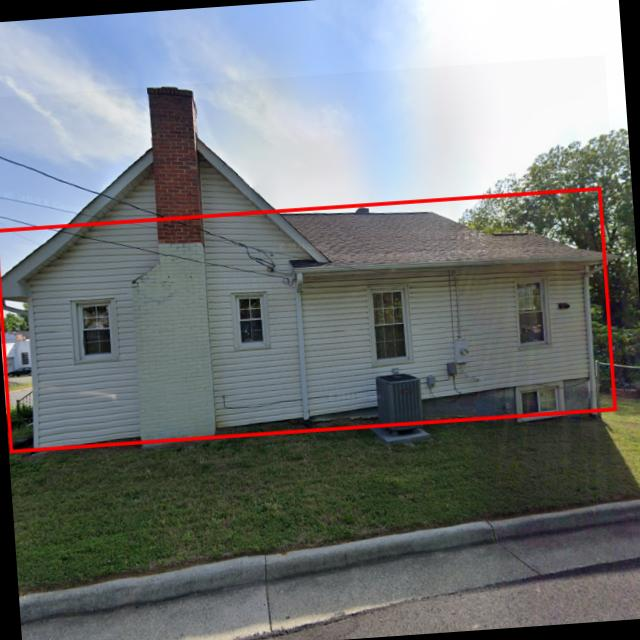House: (0, 55, 629, 462)
